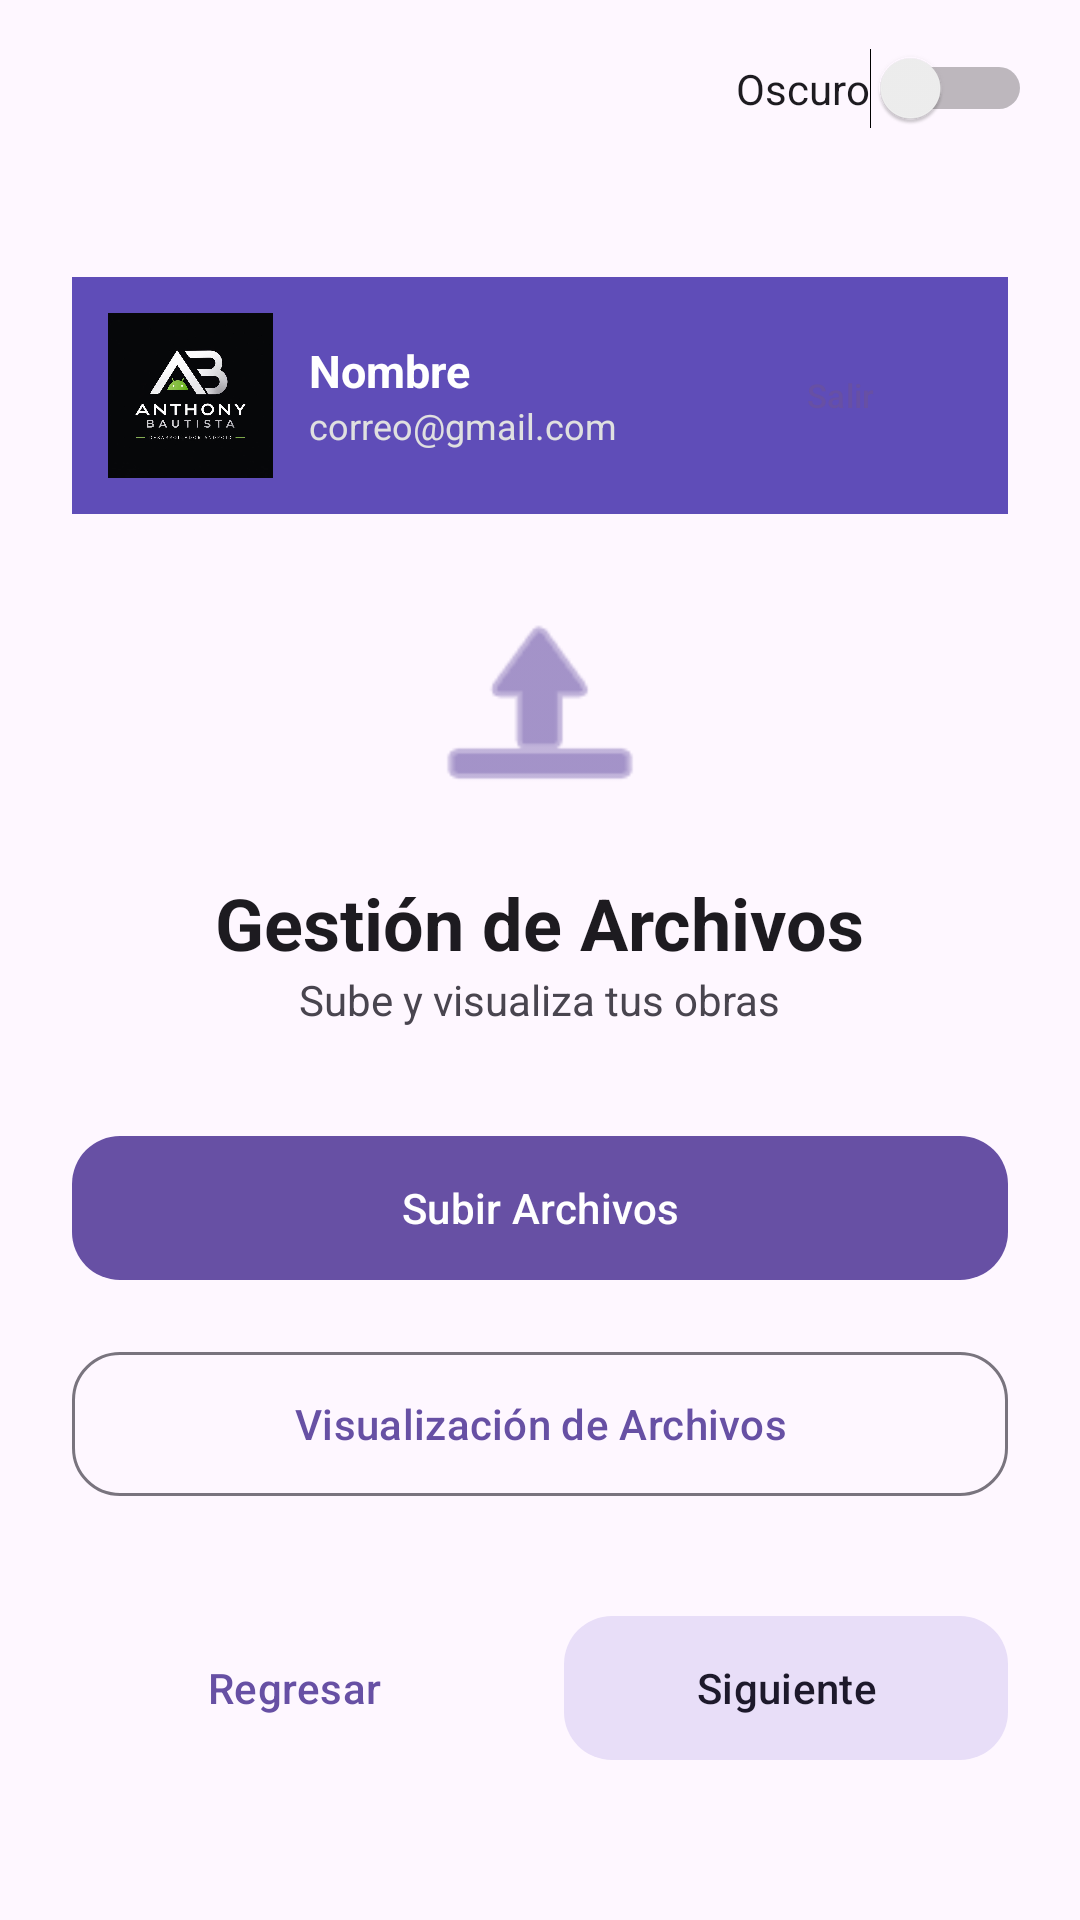

Screen size 1080 × 1920. Icon name, then its box in pixels as (x1, y1, x2, y2):
upload: (448, 626, 632, 779)
